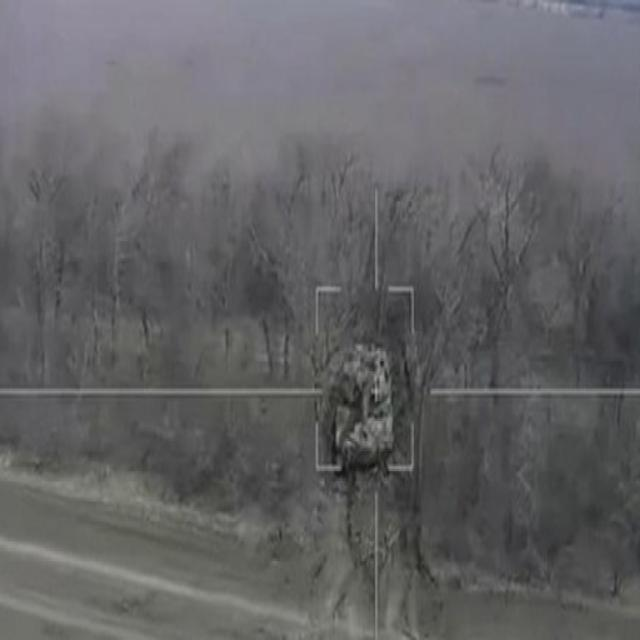ART: (328, 334, 398, 474)
